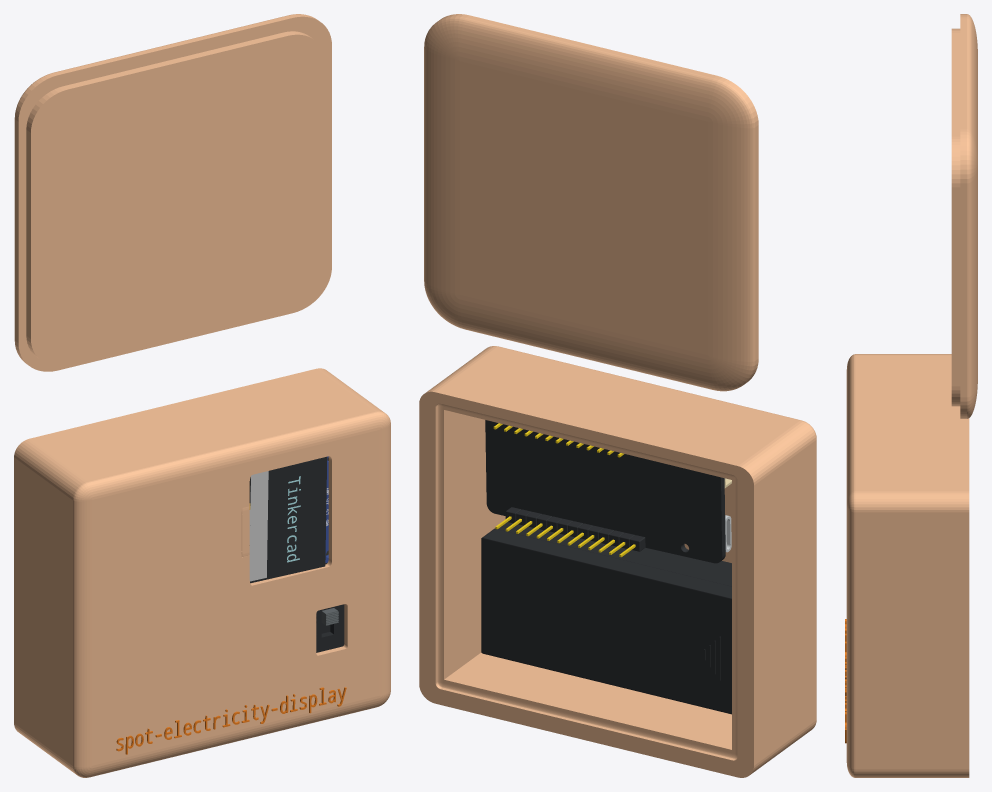
File: tinker.obj
3 renders of one model, left to right at view 1: azimuth 30°, elevation 25°; view 2: azimuth 150°, elevation 25°; view 3: azimuth 270°, elevation 25°, orthographic. The views are drawn at different scales.
Visible parts, largest first — view 1: obj_3, obj_5, obj_4, obj_1, obj_0; view 2: obj_4, obj_3, obj_0, obj_2; view 3: obj_3, obj_4, obj_5.
Boxes of the visible parts, x1,y1,x2,y2 form: obj_3: [14, 368, 390, 777]; obj_5: [26, 31, 324, 365]; obj_4: [14, 14, 331, 371]; obj_1: [249, 456, 328, 583]; obj_0: [316, 550, 344, 652]; obj_4: [424, 14, 758, 391]; obj_3: [419, 346, 816, 777]; obj_0: [481, 522, 731, 714]; obj_2: [485, 420, 731, 563]; obj_3: [845, 354, 969, 777]; obj_4: [960, 14, 977, 418]; obj_5: [951, 28, 960, 406].
Bounding box in the file's own units: 81 × 160 × 30.39.
